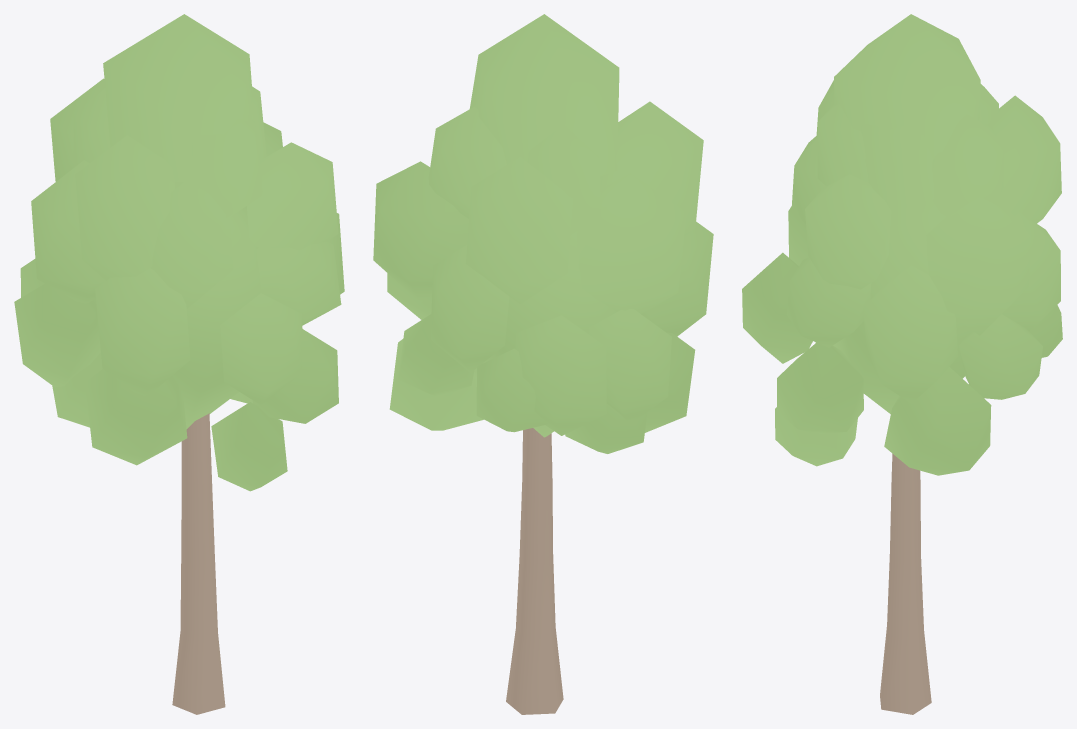
File: Blender_Alder_2_Far.glb
3 renders of one model, left to right at view 1: azimuth 30°, elevation 25°; view 2: azimuth 150°, elevation 25°; view 3: azimuth 270°, elevation 25°, orthographic.
Parts seen in each view (by area): view 1: Blender_Alder_2_Far; view 2: Blender_Alder_2_Far; view 3: Blender_Alder_2_Far.
Part boxes in pixels (x1,y1,x2,y2): Blender_Alder_2_Far: (14,14,344,714); Blender_Alder_2_Far: (373,14,713,714); Blender_Alder_2_Far: (742,14,1062,714).
Size of the model in its own units: 7.74 by 17.15 by 7.3.
